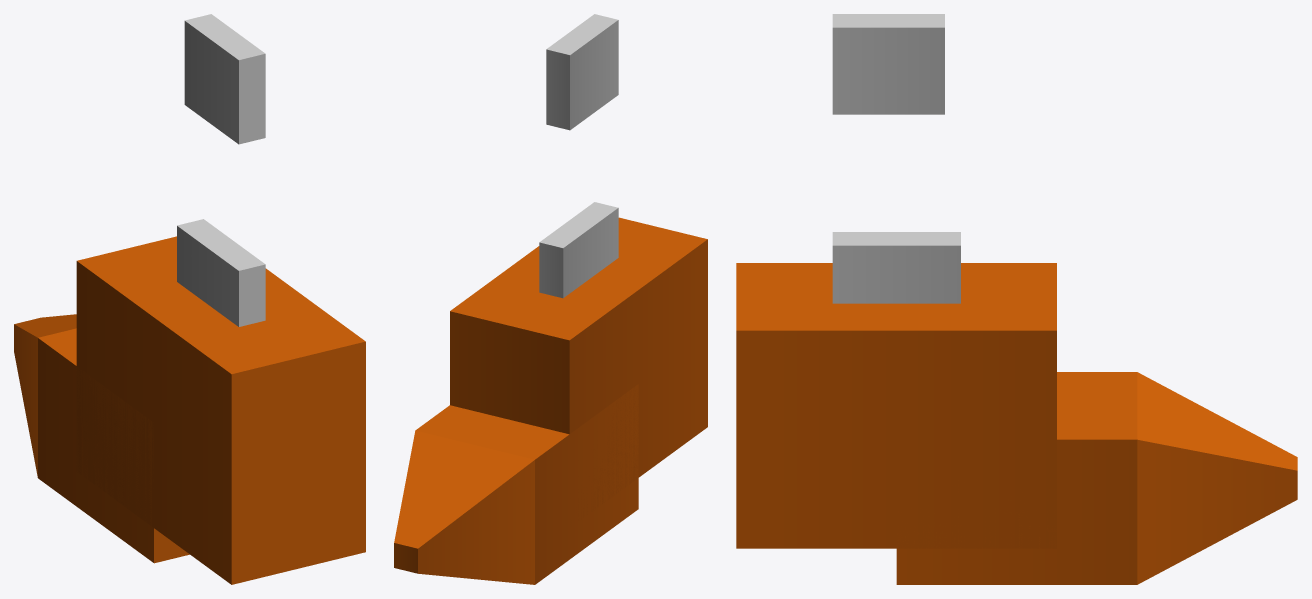
Rendered from googelon-tail.glb.
3 renders of one model, left to right at view 1: azimuth 30°, elevation 25°; view 2: azimuth 150°, elevation 25°; view 3: azimuth 270°, elevation 25°, orthographic. The views are drawn at different scales.
Visible parts, largest first — view 1: mesh0; view 2: mesh0; view 3: mesh0.
Part boxes in pixels (box(x1,y1,x2,y2)): mesh0: box(14, 14, 365, 584); mesh0: box(394, 14, 707, 584); mesh0: box(736, 14, 1297, 584).
Size of the model in its own units: 0.2 by 0.73 by 0.7.
